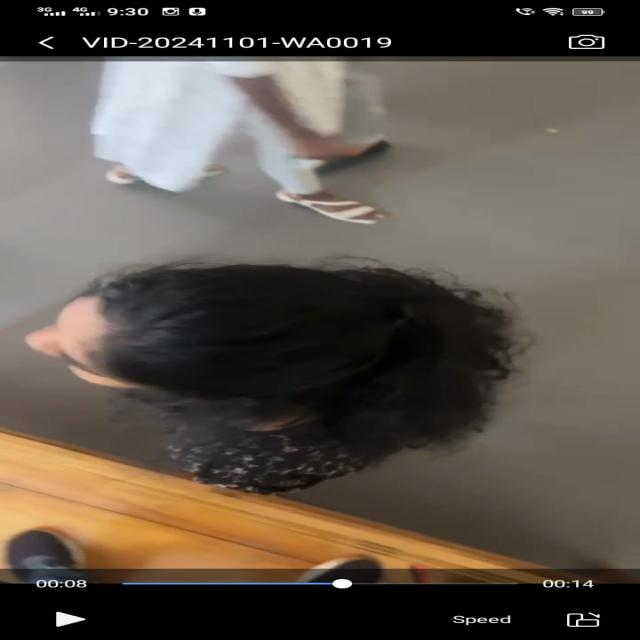humans: (12, 253, 540, 504)
